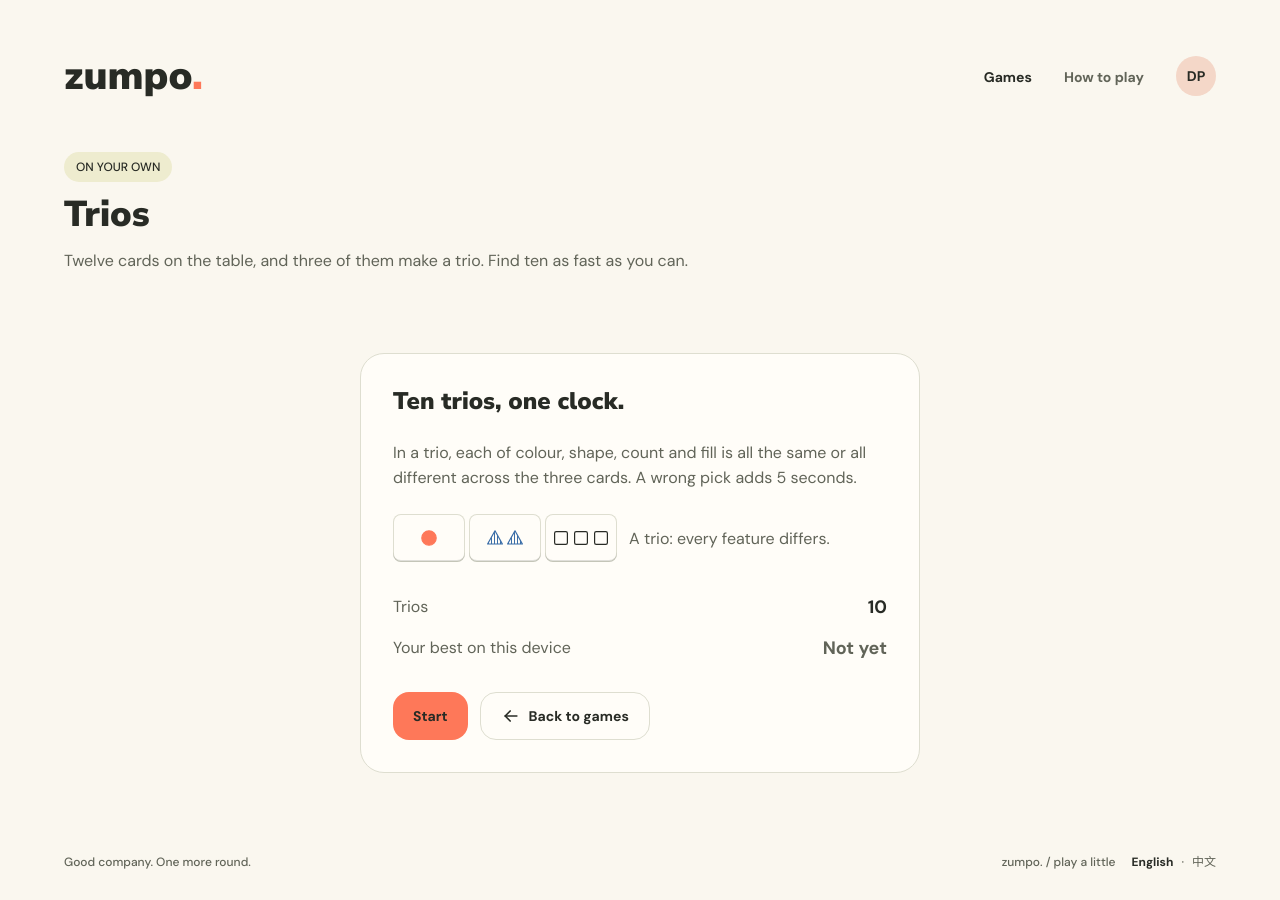
Test case: Trios on your own › deals on a first visit when asked
Expected: the heading "Ten trios, one clock." is shown, [393,385,624,417]
Expected: the text "Not yet" is shown, [823,636,887,660]
Step 1. Click the button "Start" → (430, 716), box [393,692,468,740]
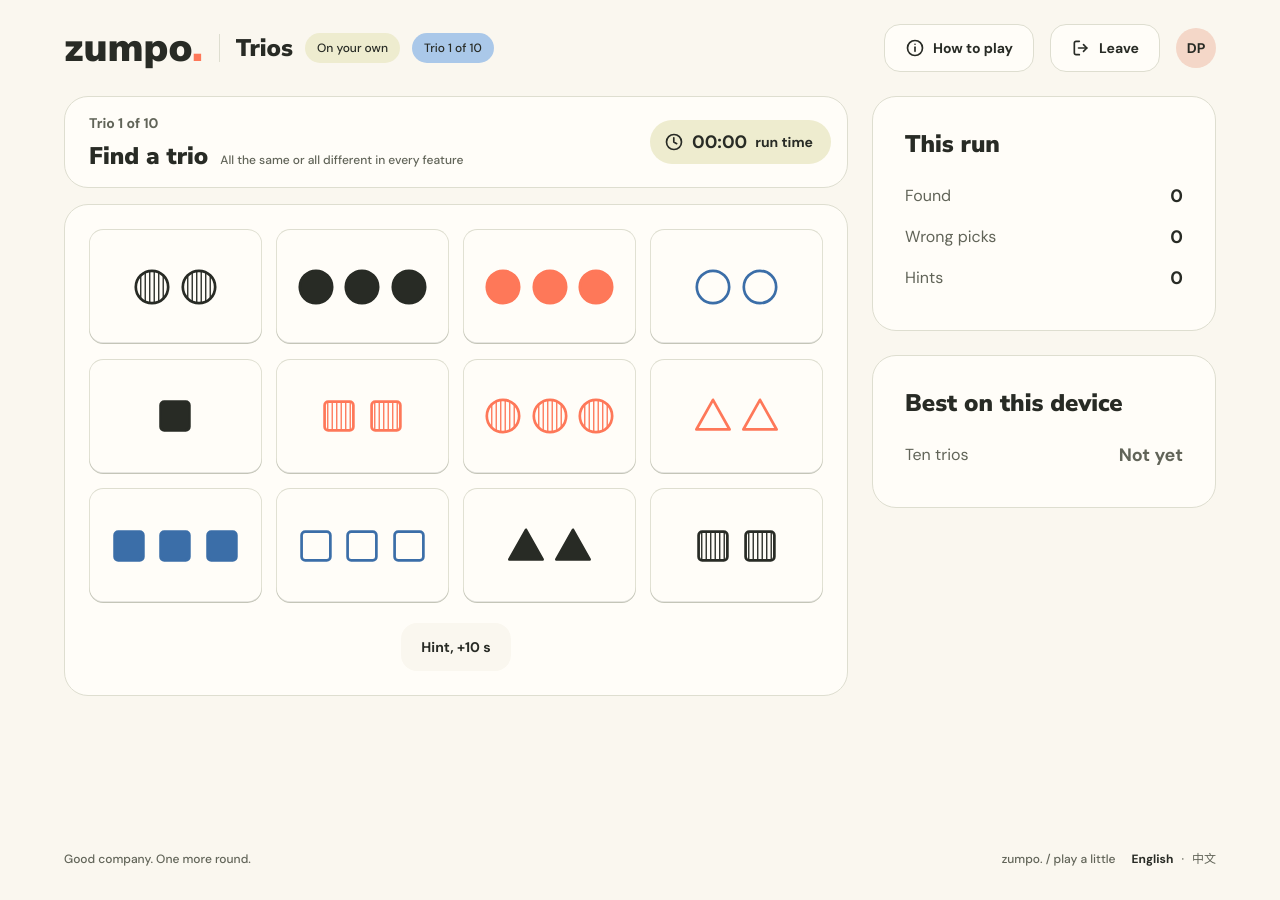
Expected: the text "Trio 1 of 10" in the row of "This run" is shown, [89,114,158,132]
Expected: the text "Find a trio" is shown, [89,141,208,171]
